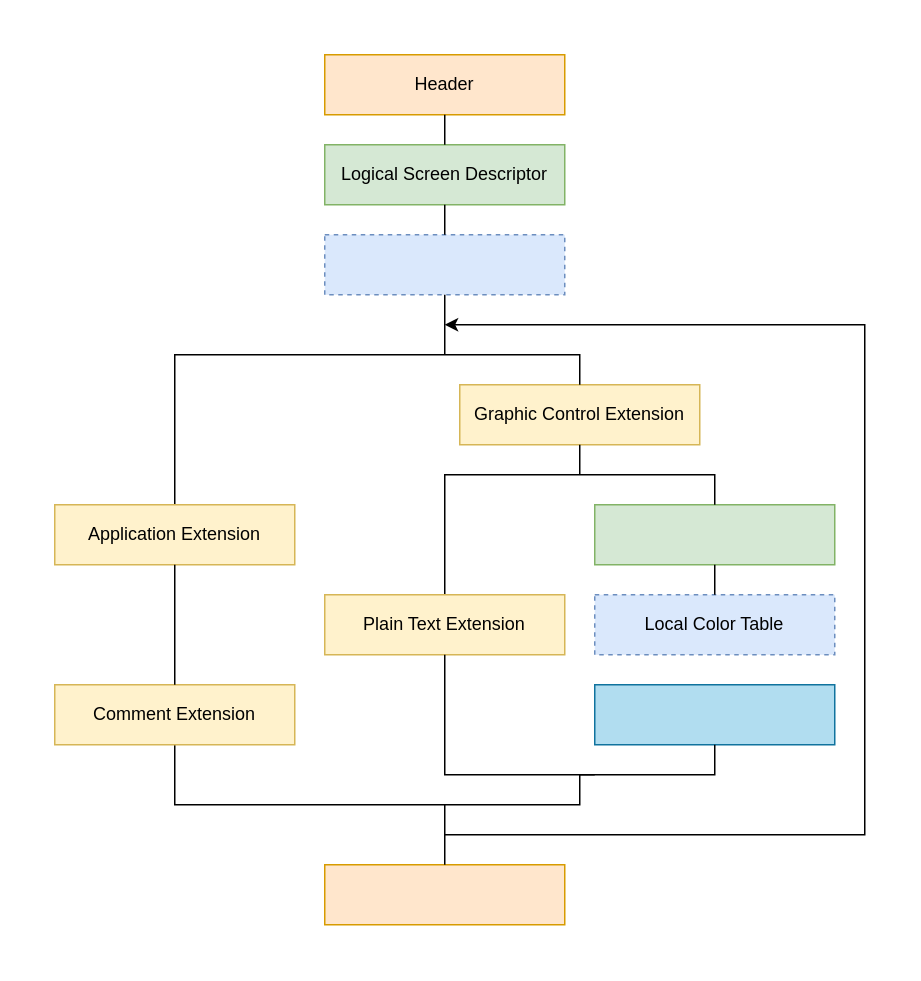
This 921x981 diagram has some shape labels left out. The box of each missing label's shape, as (x1, y1, x2, y2) in pixels:
Global Color Table: (323, 233, 565, 295)
Image Data: (593, 683, 835, 745)
Image Descriptor: (593, 503, 835, 565)
Trailer: (323, 863, 565, 925)
